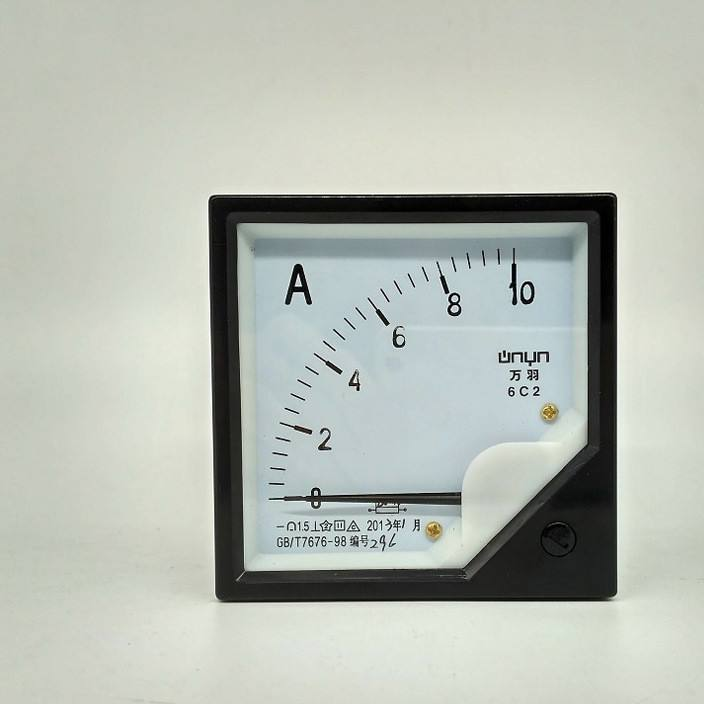pointer: (236, 220, 590, 578)
